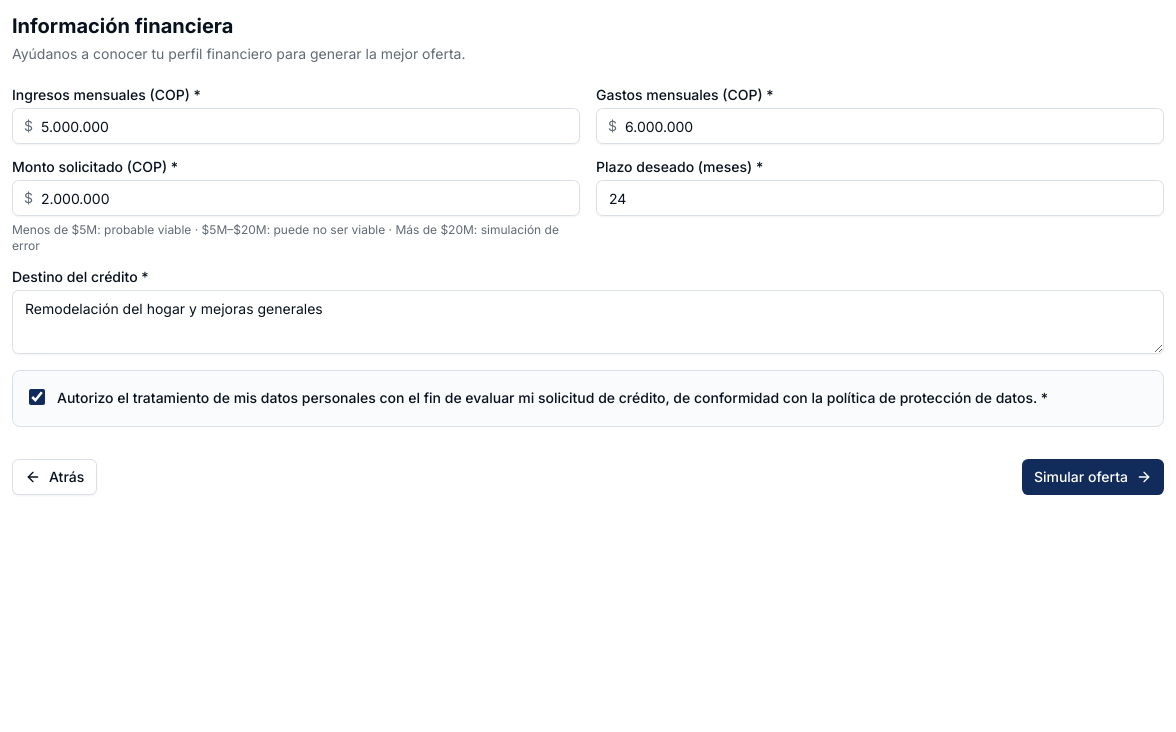
it: StepFinancialData — comportamiento del formulario › no envía cuando los gastos superan los ingresos
The image size is (1176, 732).
Click the button "Simular oferta".
click(1093, 477)  # box [1022,459,1164,495]
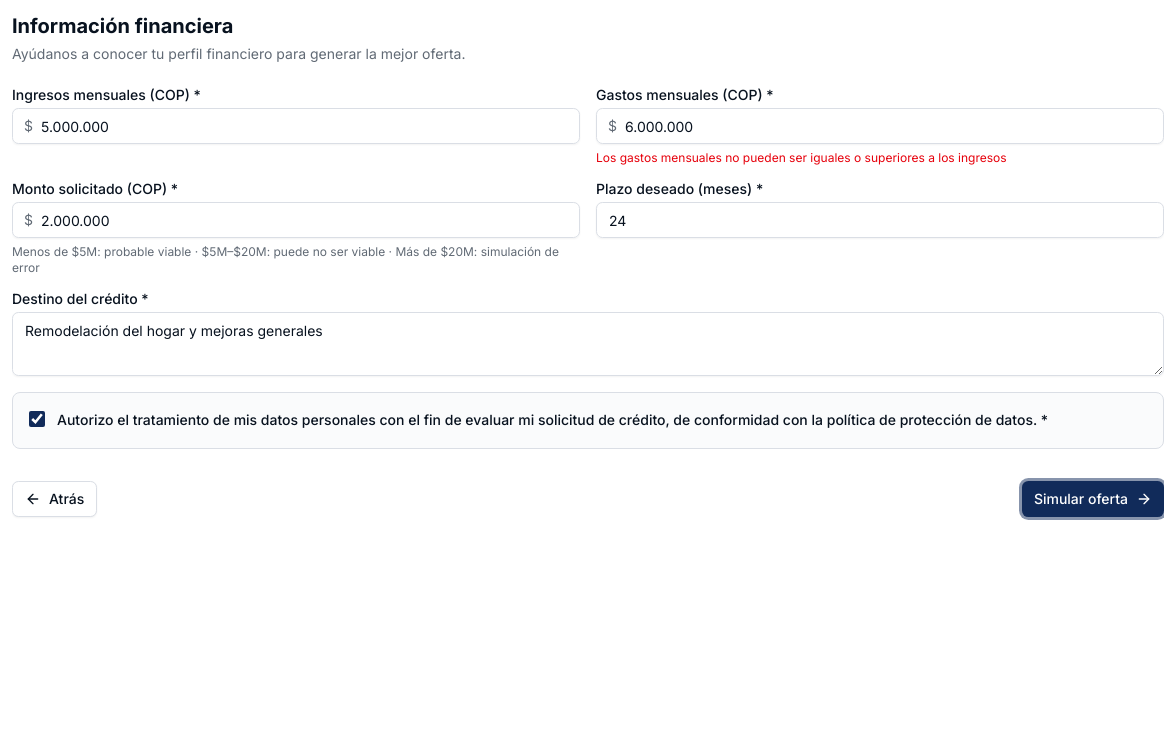
Expected: the message "Los gastos mensuales no pueden ser iguales o superiores a los ingresos" is shown, [596,150,1007,165]
